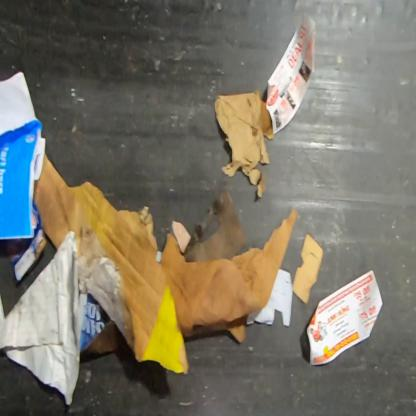cardboard: (33, 152, 300, 376), (161, 206, 300, 344), (212, 88, 274, 199), (1, 198, 49, 287), (78, 292, 122, 356), (292, 232, 325, 307)
